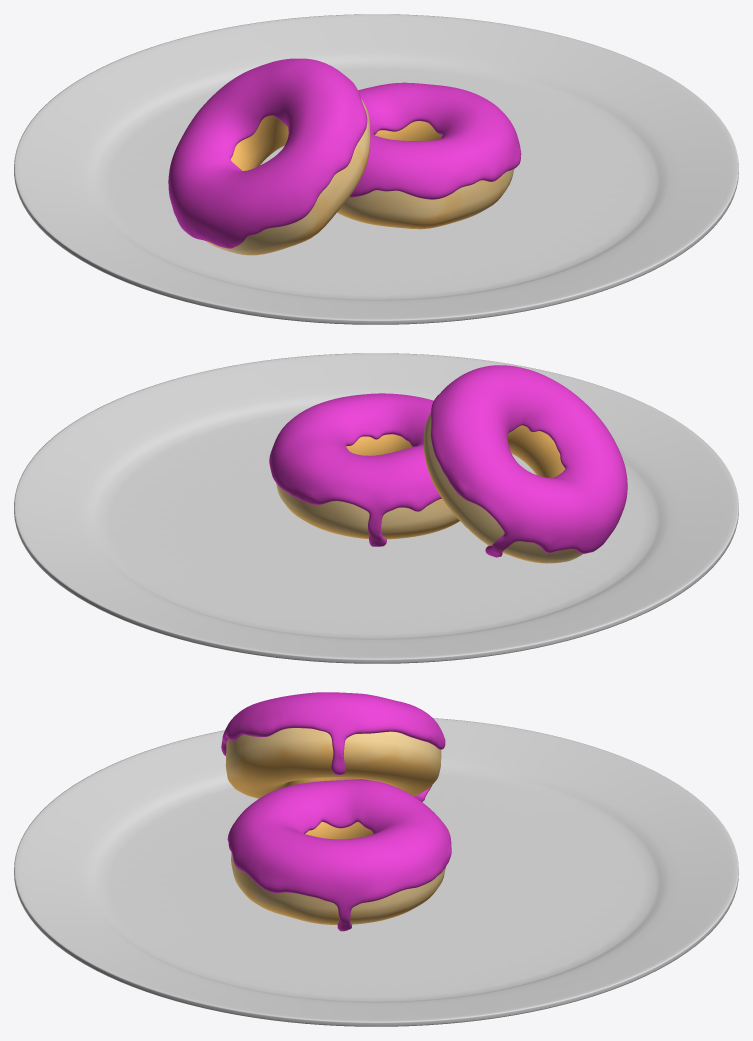
3 renders of one model, top to bottom at view 1: azimuth 30°, elevation 25°; view 2: azimuth 150°, elevation 25°; view 3: azimuth 270°, elevation 25°, orthographic.
Visible parts, largest first — view 1: Plate, Icing, Icing.001, Donut.002, Donut; view 2: Plate, Icing, Icing.001, Donut, Donut.002; view 3: Plate, Icing.001, Donut, Icing, Donut.002.
Boxes of the visible parts, left/top/right/bottom form: Plate: left=14, top=14, right=738, bottom=324; Icing: left=168, top=58, right=367, bottom=248; Icing.001: left=349, top=82, right=521, bottom=199; Donut.002: left=337, top=121, right=514, bottom=229; Donut: left=206, top=98, right=370, bottom=255; Plate: left=14, top=353, right=738, bottom=663; Icing: left=431, top=365, right=627, bottom=557; Icing.001: left=269, top=393, right=441, bottom=546; Donut: left=423, top=413, right=582, bottom=563; Donut.002: left=276, top=434, right=459, bottom=539; Plate: left=14, top=718, right=738, bottom=1026; Icing.001: left=227, top=780, right=451, bottom=931; Donut: left=225, top=728, right=441, bottom=798; Icing: left=221, top=692, right=445, bottom=801; Donut.002: left=231, top=822, right=445, bottom=924.
Size of the model in its own units: 47.41 by 11.15 by 47.41.
4 materials, 1 textured.
